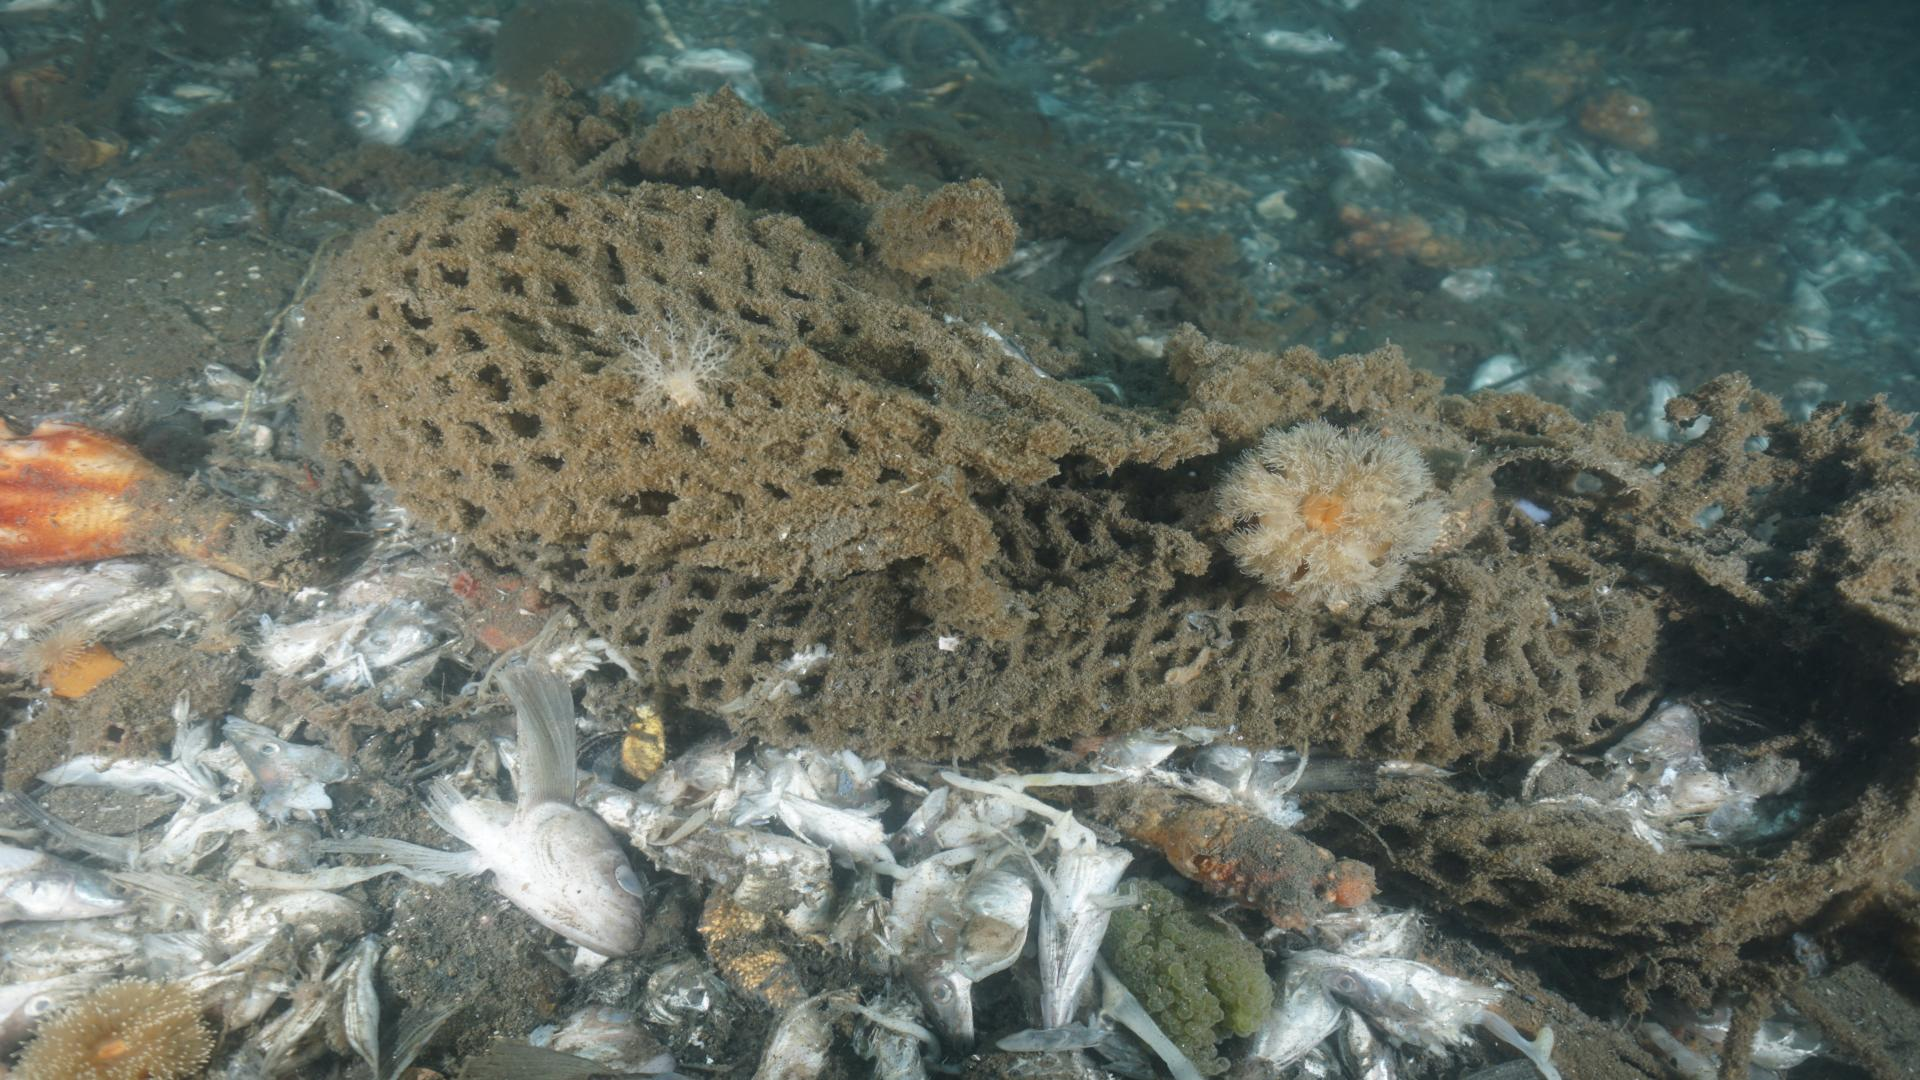fish net: (285, 167, 1729, 980)
